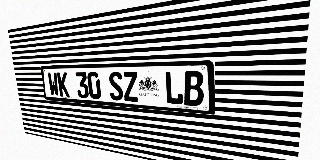0: (87, 72, 101, 99)
3: (75, 72, 89, 98)
B: (183, 71, 204, 107)
K: (57, 72, 70, 97)
L: (164, 71, 183, 105)
S: (108, 72, 124, 101)
W: (47, 72, 60, 96)
Z: (122, 72, 139, 102)
